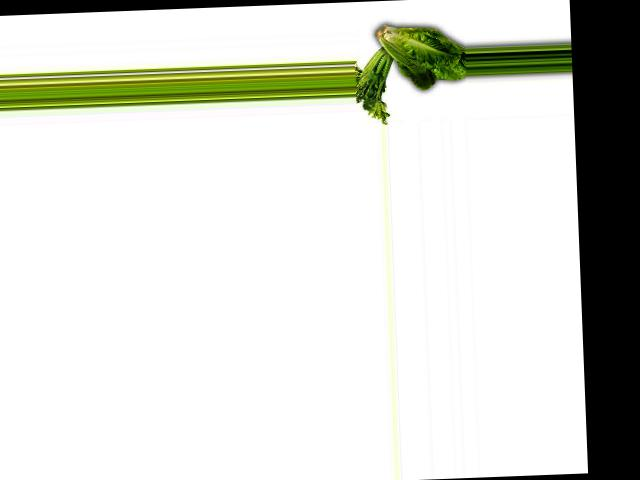lettuce: (370, 25, 468, 99)
